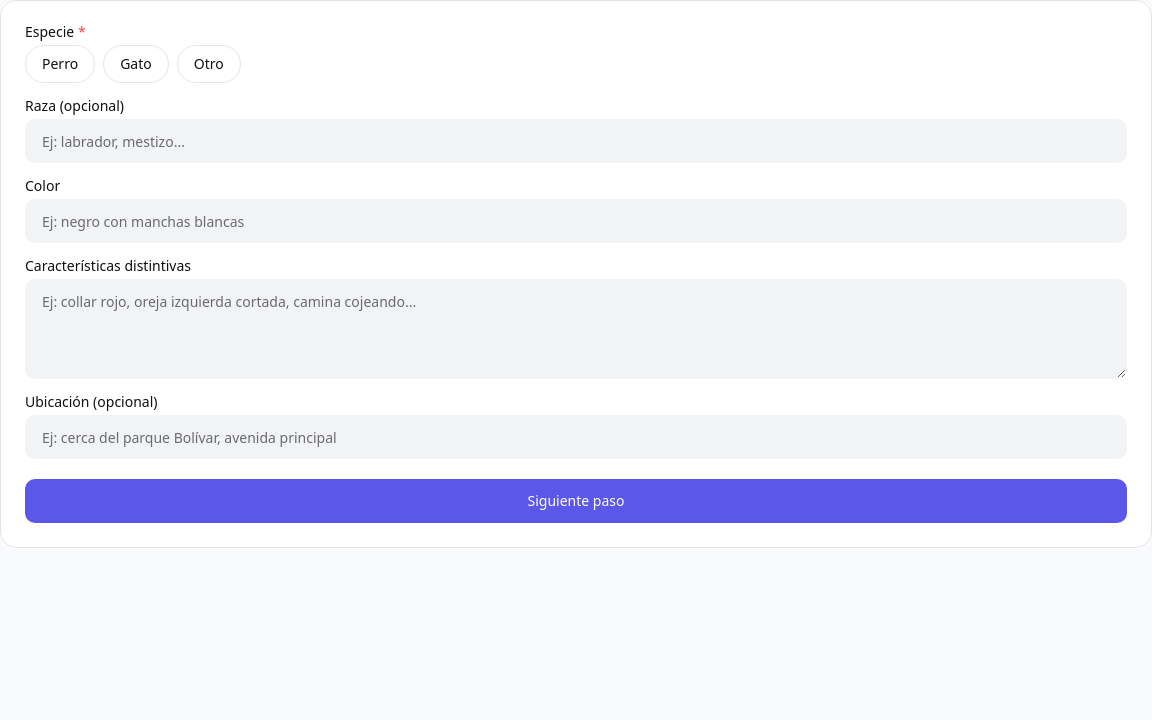
Scenario: ReporteForm (HU1/HU3 — rediseño Figma) › HU1 CA: muestra ErrorText bajo campos vacíos y aún así envía al backend
The width and height of the screenshot is (1152, 720).
Click the button "Siguiente paso": (576, 501) x1=25 y1=479 x2=1127 y2=523
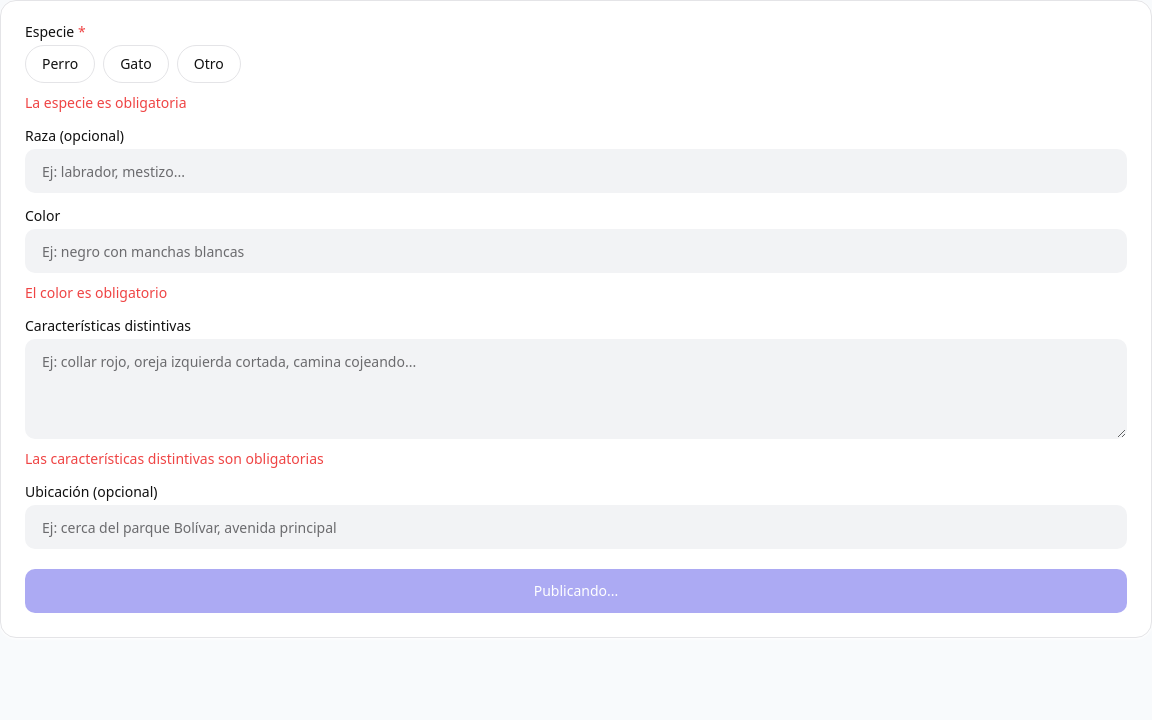
Now the text "La especie es obligatoria" is shown, box x1=25 y1=93 x2=187 y2=112
Now the text "El color es obligatorio" is shown, box x1=25 y1=283 x2=167 y2=302
